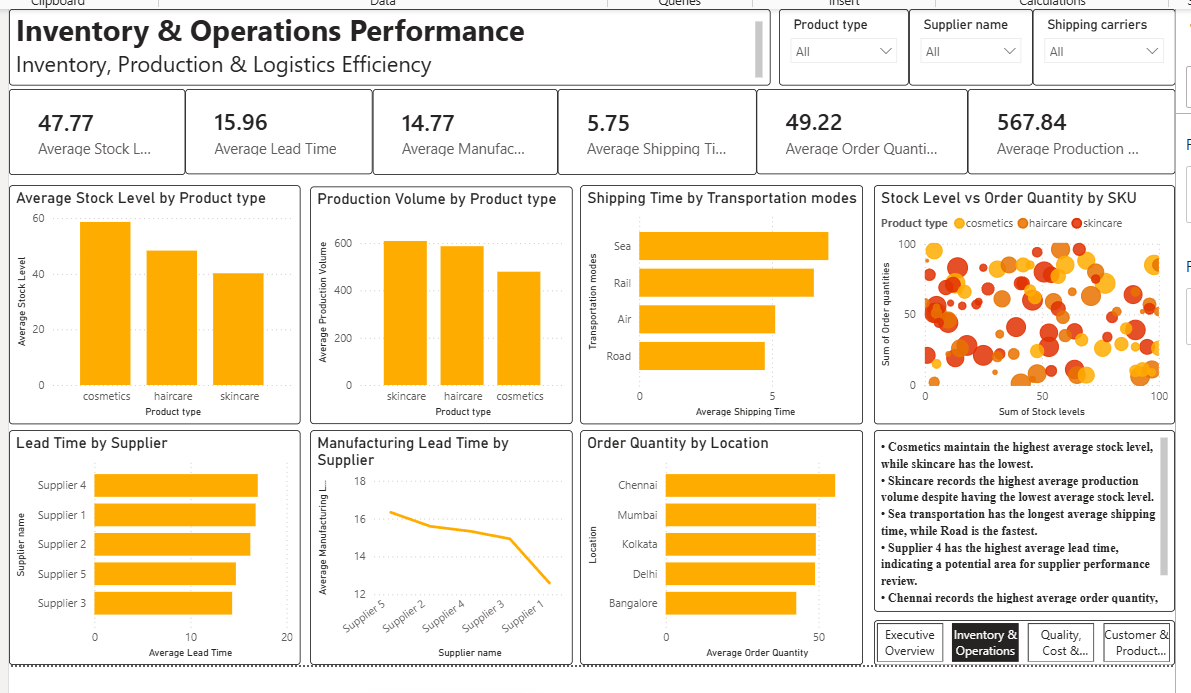

What the dashboard file says about the page in this screenshot:
{"tool":"powerbi","page":{"name":"Inventory & Operations","canvas":[1280,720],"ordinal":1},"visuals":[{"type":"cardVisual","fields":{"Data":["Fact_supplychain.Average Stock Level"]},"box":[0,87.8,193.5,94.7],"z":0},{"type":"cardVisual","fields":{"Data":["Fact_supplychain.Average Lead Time"]},"box":[193.5,87.8,205.8,93.3],"z":1000},{"type":"cardVisual","fields":{"Data":["Fact_supplychain.Average Manufacturing Lead Time"]},"box":[399.3,87.8,203.1,94.7],"z":2000},{"type":"cardVisual","fields":{"Data":["Fact_supplychain.Average Shipping Time"]},"box":[602.4,87.8,218.2,94.7],"z":3000},{"type":"cardVisual","fields":{"Data":["Fact_supplychain.Average Order Quantity"]},"box":[820.6,87.8,231.9,93.3],"z":4000},{"type":"cardVisual","fields":{"Data":["Fact_supplychain.Average Production Volume"]},"box":[1052.2,87.8,227.8,93.3],"z":5000},{"type":"slicer","fields":{"Values":["Fact_supplychain.Product type"]},"box":[845.3,0,142.7,83.7],"z":6000},{"type":"slicer","fields":{"Values":["Fact_supplychain.Supplier name"]},"box":[988,0,135.8,83.7],"z":7000},{"type":"slicer","fields":{"Values":["Fact_supplychain.Shipping carriers"]},"box":[1123.8,0,156.4,83.7],"z":8000},{"type":"clusteredColumnChart","fields":{"Category":["Fact_supplychain.Product type"],"Y":["Fact_supplychain.Average Stock Level"]},"box":[0,193.5,319.7,262.1],"z":10000},{"type":"clusteredBarChart","title":"Lead Time by Supplier","fields":{"Category":["Fact_supplychain.Supplier name"],"Y":["Fact_supplychain.Average Lead Time"]},"box":[0,462.4,319.7,258],"z":11000},{"type":"clusteredColumnChart","title":"Production Volume by Product type","fields":{"Category":["Fact_supplychain.Product type"],"Y":["Fact_supplychain.Average Production Volume"]},"box":[330.7,194.9,288.2,260.7],"z":12000},{"type":"lineChart","title":"Manufacturing Lead Time by Supplier","fields":{"Category":["Fact_supplychain.Supplier name"],"Y":["Fact_supplychain.Average Manufacturing Lead Time"]},"box":[330.7,462.4,288.2,258],"z":13000},{"type":"barChart","title":"Shipping Time by Transportation modes","fields":{"Category":["Fact_supplychain.Transportation modes"],"Y":["Fact_supplychain.Average Shipping Time"]},"box":[627.1,193.5,310.1,262.1],"z":14000},{"type":"barChart","title":"Order Quantity by Location","fields":{"Category":["Fact_supplychain.Location"],"Y":["Fact_supplychain.Average Order Quantity"]},"box":[627.1,462.4,310.1,258],"z":15000},{"type":"pageNavigator","box":[949.6,671,330.7,49.4],"z":16000},{"type":"textbox","box":[949.6,462.4,330.7,199],"z":16001},{"type":"textbox","box":[0,0,835.7,83.7],"z":16002},{"type":"scatterChart","title":"Stock Level vs Order Quantity by SKU","fields":{"X":["Sum(Fact_supplychain.Stock levels)"],"Y":["Sum(Fact_supplychain.Order quantities)"],"Category":["Fact_supplychain.SKU"],"Series":["Fact_supplychain.Product type"],"Size":["Sum(Fact_supplychain.Number of products sold)"]},"box":[949.6,193.5,330.7,262.1],"z":16003}]}

Visuals, with their boxes on the page's 1280x720 design canvas (x1, y1, x2, y2). These are canvas units, not pixel positions in the 1191x693 screenshot, which may show the page scaled, cropped or inside an application window:
cardVisual - Fact_supplychain.Average Stock Level: {"x1": 0, "y1": 88, "x2": 194, "y2": 182}
cardVisual - Fact_supplychain.Average Lead Time: {"x1": 194, "y1": 88, "x2": 399, "y2": 181}
cardVisual - Fact_supplychain.Average Manufacturing Lead Time: {"x1": 399, "y1": 88, "x2": 602, "y2": 182}
cardVisual - Fact_supplychain.Average Shipping Time: {"x1": 602, "y1": 88, "x2": 821, "y2": 182}
cardVisual - Fact_supplychain.Average Order Quantity: {"x1": 821, "y1": 88, "x2": 1052, "y2": 181}
cardVisual - Fact_supplychain.Average Production Volume: {"x1": 1052, "y1": 88, "x2": 1280, "y2": 181}
slicer - Fact_supplychain.Product type: {"x1": 845, "y1": 0, "x2": 988, "y2": 84}
slicer - Fact_supplychain.Supplier name: {"x1": 988, "y1": 0, "x2": 1124, "y2": 84}
slicer - Fact_supplychain.Shipping carriers: {"x1": 1124, "y1": 0, "x2": 1280, "y2": 84}
clusteredColumnChart - Fact_supplychain.Product type x Fact_supplychain.Average Stock Level: {"x1": 0, "y1": 194, "x2": 320, "y2": 456}
"Lead Time by Supplier" clusteredBarChart: {"x1": 0, "y1": 462, "x2": 320, "y2": 720}
"Production Volume by Product type" clusteredColumnChart: {"x1": 331, "y1": 195, "x2": 619, "y2": 456}
"Manufacturing Lead Time by Supplier" lineChart: {"x1": 331, "y1": 462, "x2": 619, "y2": 720}
"Shipping Time by Transportation modes" barChart: {"x1": 627, "y1": 194, "x2": 937, "y2": 456}
"Order Quantity by Location" barChart: {"x1": 627, "y1": 462, "x2": 937, "y2": 720}
pageNavigator: {"x1": 950, "y1": 671, "x2": 1280, "y2": 720}
textbox: {"x1": 950, "y1": 462, "x2": 1280, "y2": 661}
textbox: {"x1": 0, "y1": 0, "x2": 836, "y2": 84}
"Stock Level vs Order Quantity by SKU" scatterChart: {"x1": 950, "y1": 194, "x2": 1280, "y2": 456}
